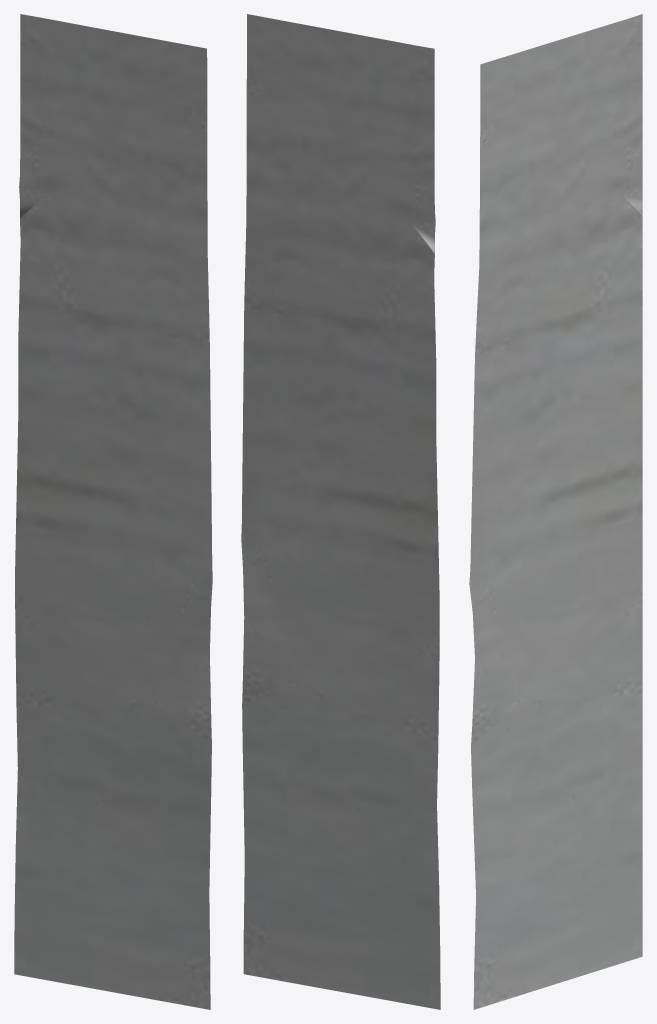
3 views of the same model, side by side, from view 1: azimuth 30°, elevation 25°; view 2: azimuth 210°, elevation 25°; view 3: azimuth 270°, elevation 25° (orthographic).
Bounding box in the file's own units: 0.2522 × 2.09 × 0.3466.
1 material, 1 textured.
